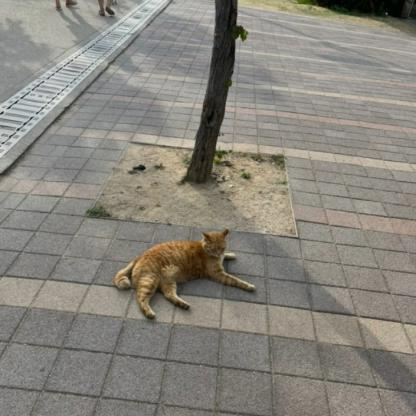cat: (112, 220, 267, 318)
